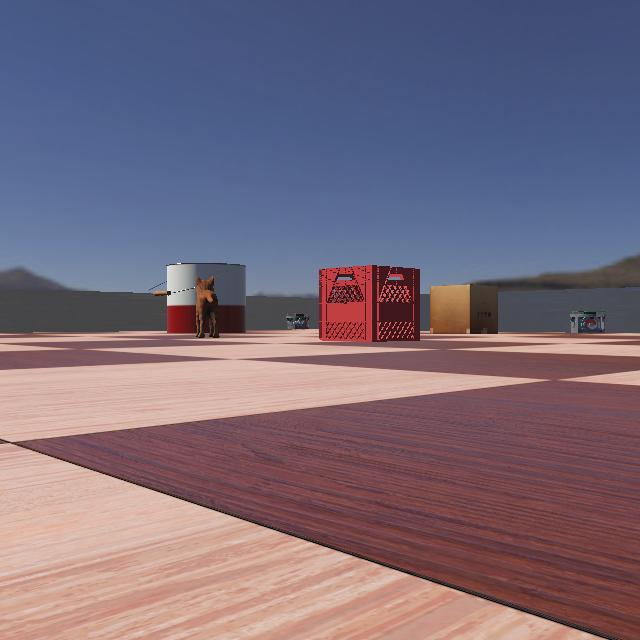cardboard-box: (424, 284, 506, 334), (424, 284, 506, 334)
cat: (176, 269, 228, 339), (176, 269, 228, 339), (176, 269, 228, 339)
plastic-crate: (318, 264, 428, 342)
